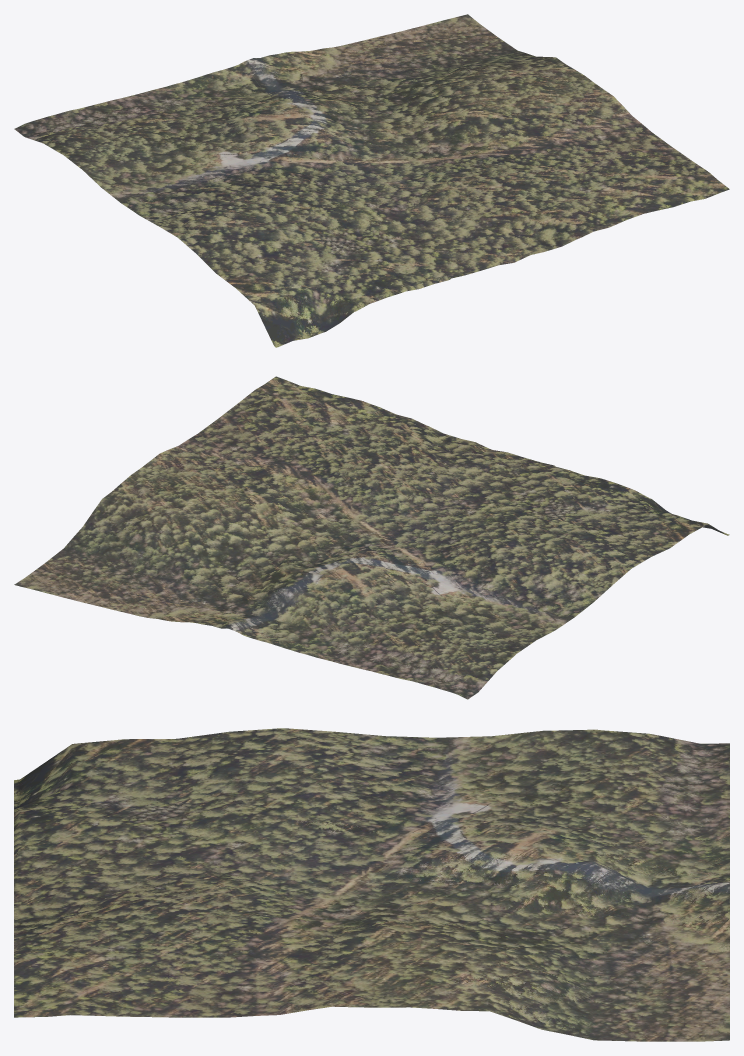
Rendered from CM_Terrain_24490049_6822456.fbx.
3 views of the same model, one above another, from view 1: azimuth 30°, elevation 25°; view 2: azimuth 150°, elevation 25°; view 3: azimuth 270°, elevation 25° (orthographic). The views are drawn at different scales.
Visible parts, largest first — view 1: CM_Terrain_24490049_6822456_LOD0; view 2: CM_Terrain_24490049_6822456_LOD0; view 3: CM_Terrain_24490049_6822456_LOD0.
Boxes of the visible parts, x1,y1,x2,y2 form: CM_Terrain_24490049_6822456_LOD0: [14, 14, 729, 347]; CM_Terrain_24490049_6822456_LOD0: [14, 376, 729, 699]; CM_Terrain_24490049_6822456_LOD0: [14, 728, 729, 1041].
Size of what is drawn, in the model's own units: 205 by 24 by 205.
